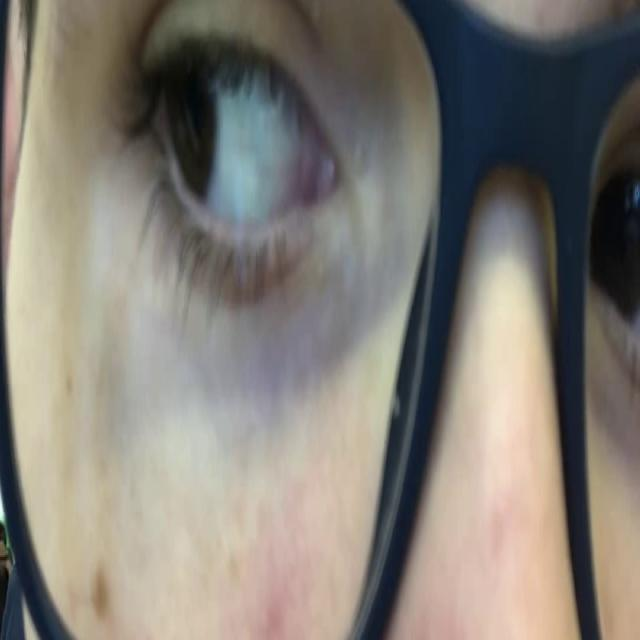eye: (106, 0, 360, 338)
gaze: (150, 37, 224, 203)
